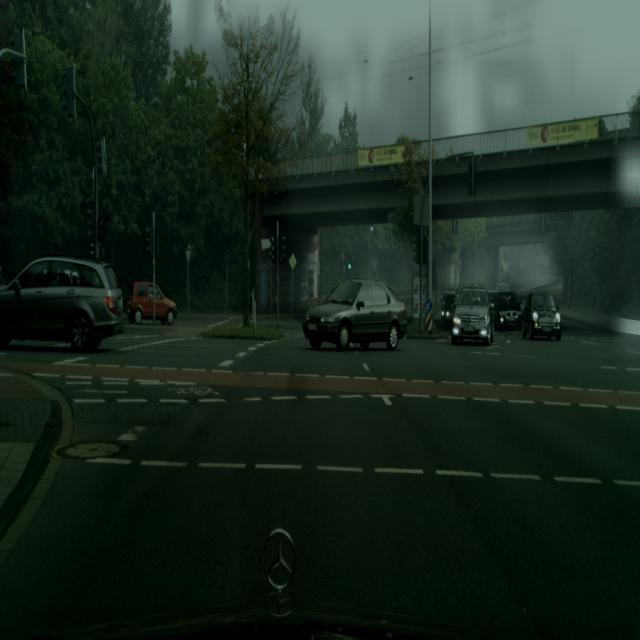truck: (0, 255, 124, 353), (302, 278, 408, 351), (451, 286, 494, 345), (127, 281, 178, 326), (521, 290, 562, 342), (493, 290, 522, 331), (438, 292, 457, 330)
